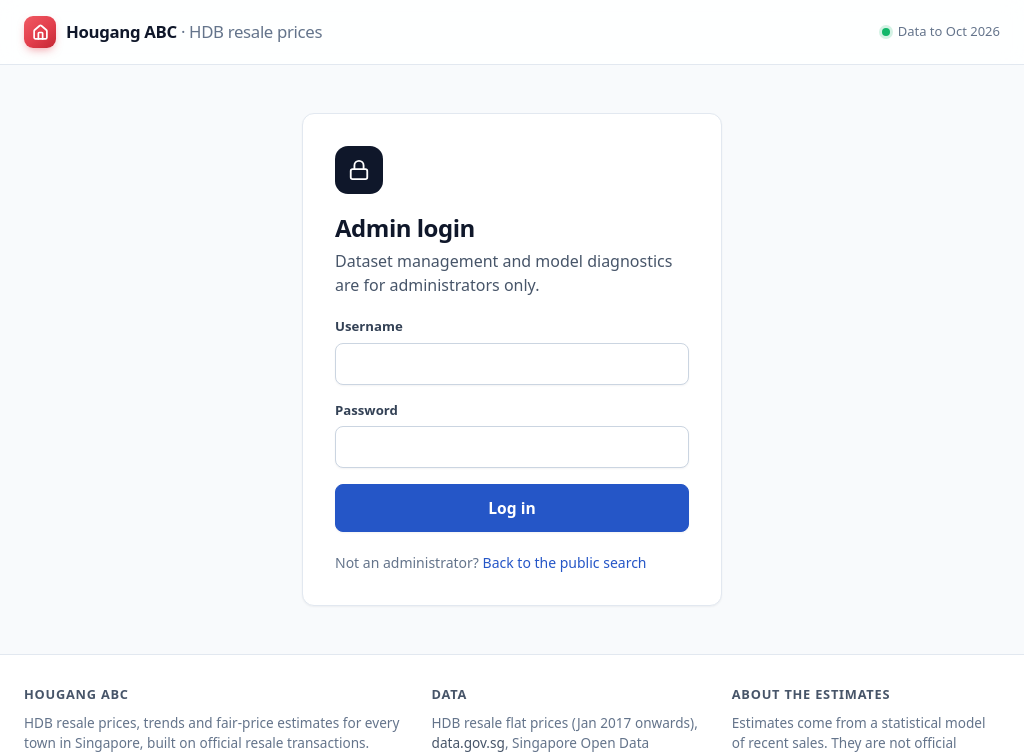
Test: S7 Admin Authorization (UC-4.11) › a locked account shows when login will be possible again (UC-4.11 step 6)
Step 1. Type "admin" into the field labelled "Username" → x=512, y=364, box [335,343,689,385]
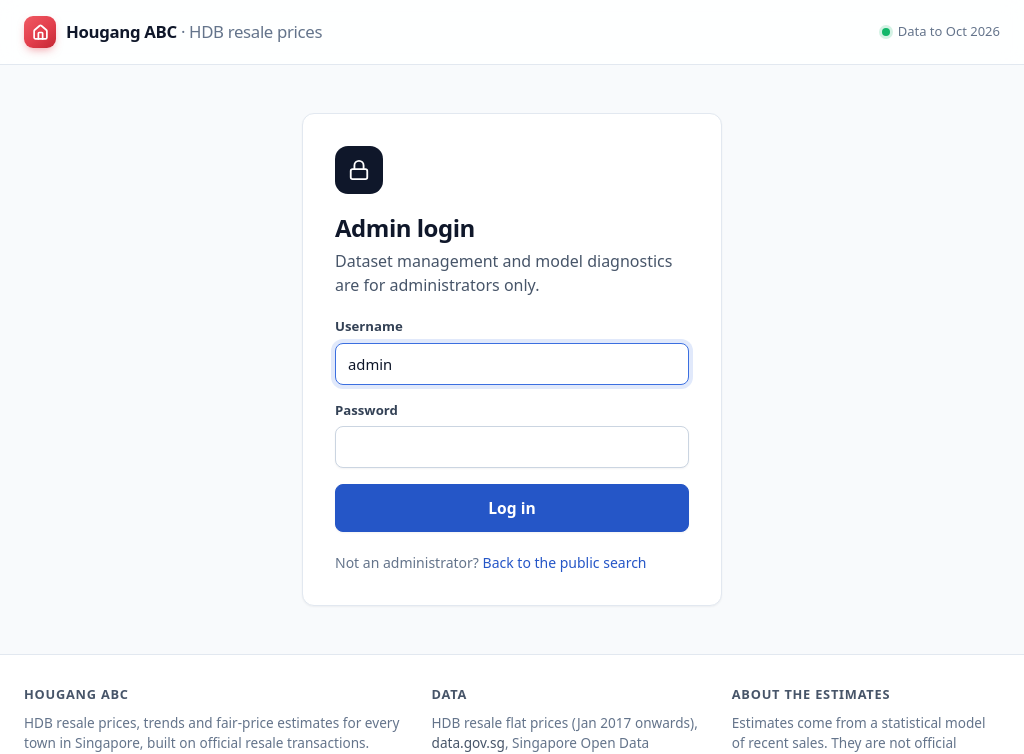
Step 2. Type "correct" into the password field labelled "Password" → x=512, y=447, box [335,426,689,468]
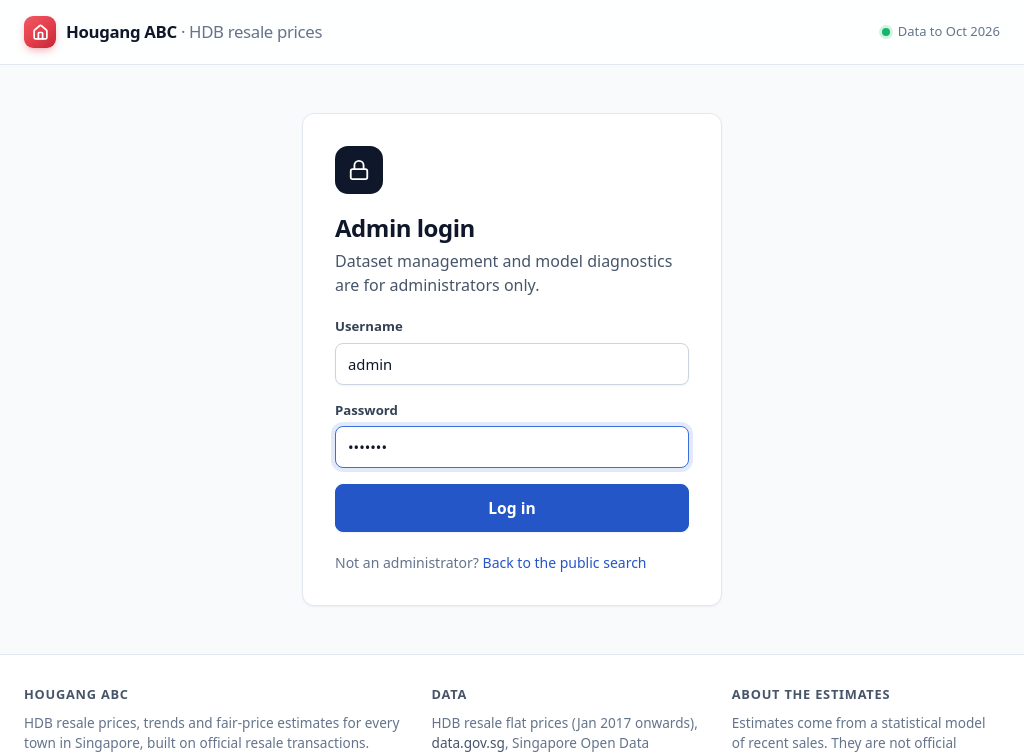
Step 3. Click the button "Log in" → x=512, y=508, box [335,484,689,532]
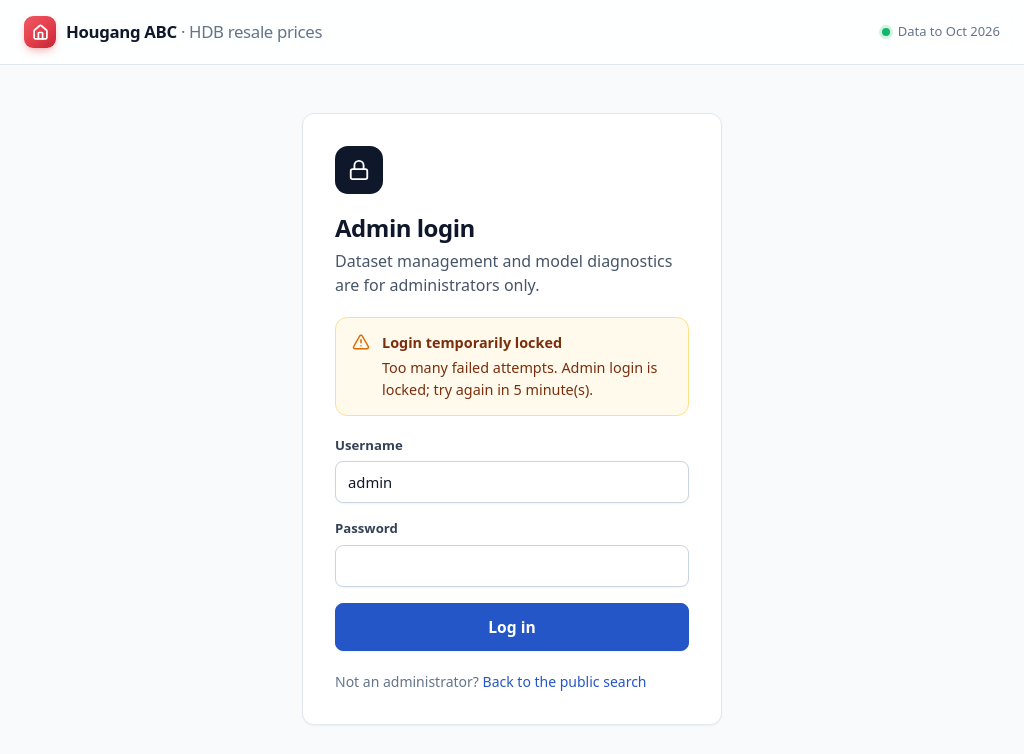
Now the text "Login temporarily locked" is shown, box [382,333,562,352]
Now the text "try again in 5 minute" is shown, box [382,358,658,399]
